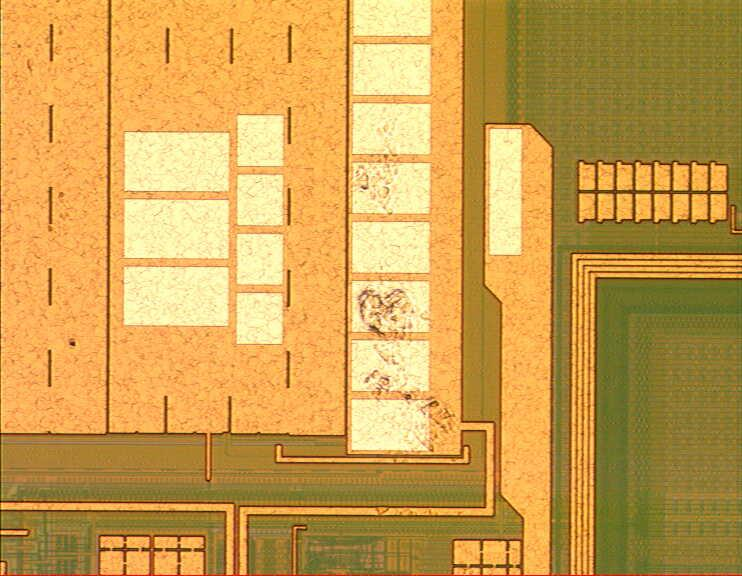PO CONTAMINATION: (346, 104, 471, 521)
